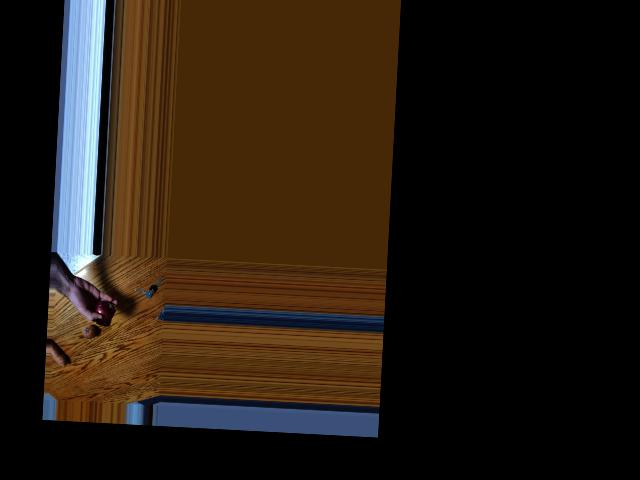onion: (79, 320, 97, 338)
